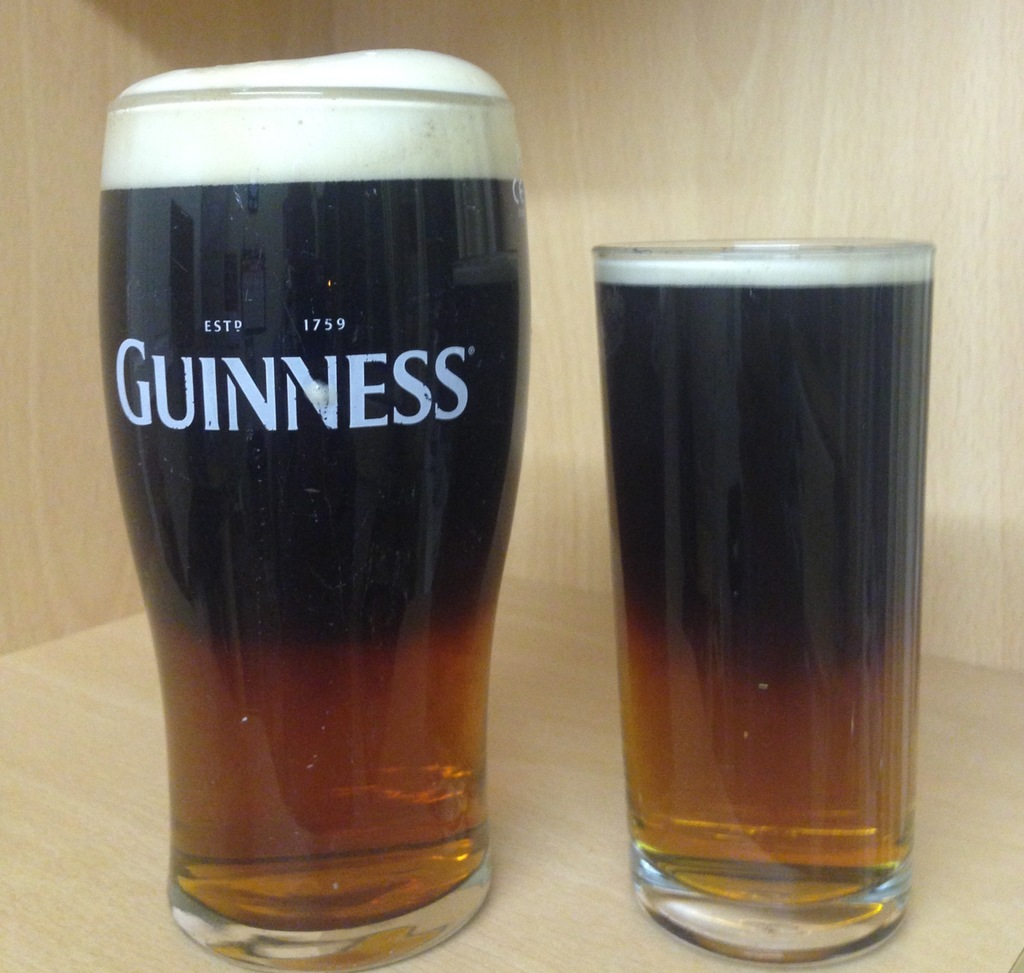Beer: (90, 44, 537, 971), (590, 237, 936, 966)
